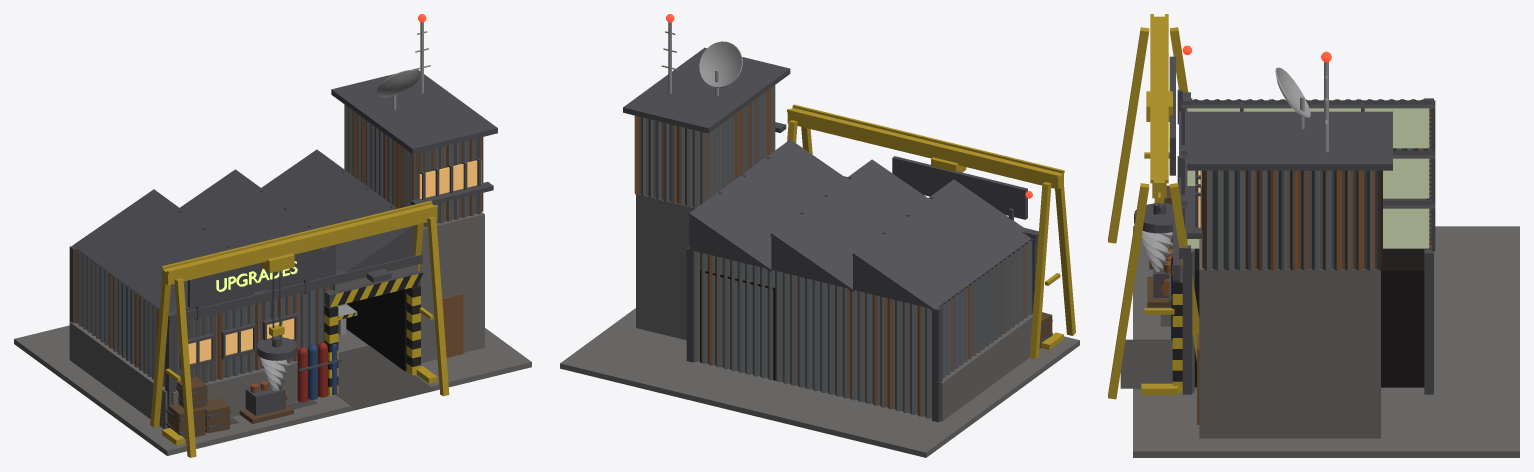
Rendered from upgrade_shop.glb.
3 views of the same model, side by side, from view 1: azimuth 30°, elevation 25°; view 2: azimuth 150°, elevation 25°; view 3: azimuth 270°, elevation 25° (orthographic). The views are drawn at different scales.
Visible parts, largest first — view 1: SawtoothRoof, Pad, HallWalls, Gantry, TowerDetails, TowerWalls, TowerBase, HallBase, HallFrame, BayFrame, BayInterior, SignBoard (+8 smaller); view 2: SawtoothRoof, HallWalls, Pad, TowerWalls, Gantry, TowerBase, TowerDetails, HallBase, SignBoard, HallFrame, Dish, BayInterior; view 3: Pad, TowerBase, TowerWalls, TowerDetails, Gantry, BayInterior, Skylights, SawtoothRoof, HallFrame, BayFrame, HangingDrill, SignBoard (+5 smaller).
Boxes of the visible parts, box(x1,y1,x2,y2) form: SawtoothRoof: box(72, 149, 414, 311); Pad: box(14, 325, 531, 455); HallWalls: box(74, 249, 333, 390); Gantry: box(150, 200, 449, 457); TowerDetails: box(331, 69, 497, 357); TowerWalls: box(344, 104, 483, 226); TowerBase: box(420, 212, 484, 363); HallBase: box(70, 264, 417, 429); HallFrame: box(69, 246, 422, 427); BayFrame: box(324, 271, 423, 395); BayInterior: box(346, 289, 406, 371); SignBoard: box(187, 248, 322, 320); SawtoothRoof: box(688, 139, 1031, 311); HallWalls: box(694, 240, 1032, 418); Pad: box(560, 308, 1079, 457); TowerWalls: box(634, 85, 775, 208); Gantry: box(787, 104, 1075, 359); TowerBase: box(636, 194, 694, 340); TowerDetails: box(623, 47, 790, 133); HallBase: box(940, 300, 1032, 421); SignBoard: box(892, 156, 1027, 220); HallFrame: box(686, 227, 1038, 422); Dish: box(699, 41, 742, 87); BayInterior: box(700, 270, 775, 380); Pad: box(1120, 226, 1519, 457); TowerBase: box(1199, 231, 1380, 438); TowerWalls: box(1202, 170, 1382, 270); TowerDetails: box(1187, 111, 1392, 424); Gantry: box(1108, 14, 1199, 399); BayInterior: box(1194, 248, 1426, 387); Skylights: box(1187, 108, 1429, 248); SawtoothRoof: box(1181, 100, 1435, 251); HallFrame: box(1179, 92, 1433, 394); BayFrame: box(1172, 209, 1182, 392); HangingDrill: box(1134, 203, 1172, 271); SignBoard: box(1169, 56, 1182, 186).
Bounding box in the file's own units: 4.4 × 3.52 × 3.41.
